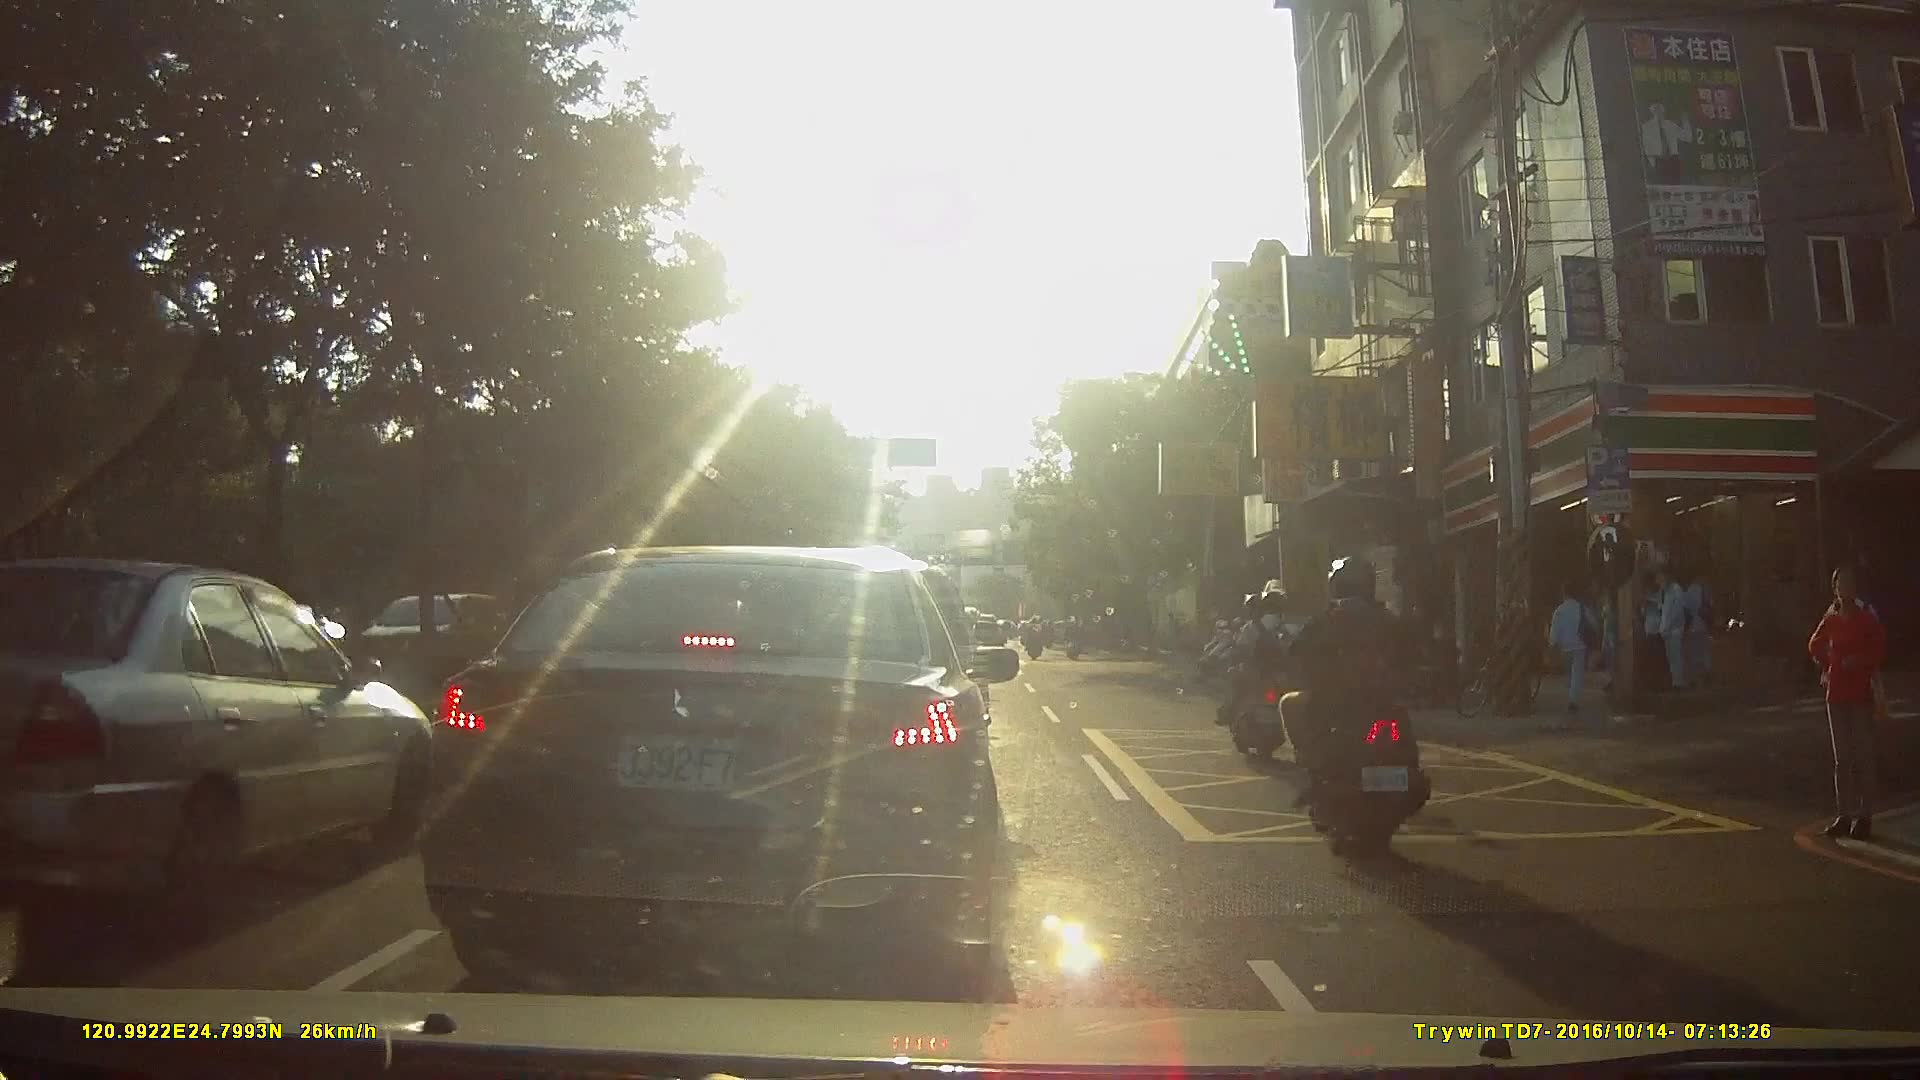pedestrian: (1808, 567, 1893, 846), (1548, 579, 1601, 715), (1646, 567, 1687, 696), (1634, 569, 1673, 702), (1678, 564, 1718, 691), (1604, 577, 1633, 709)
rider: (1281, 557, 1429, 857), (1211, 582, 1309, 763), (1024, 613, 1047, 664), (1063, 616, 1085, 664)
vehicle: (432, 538, 1039, 980), (12, 549, 451, 924)
